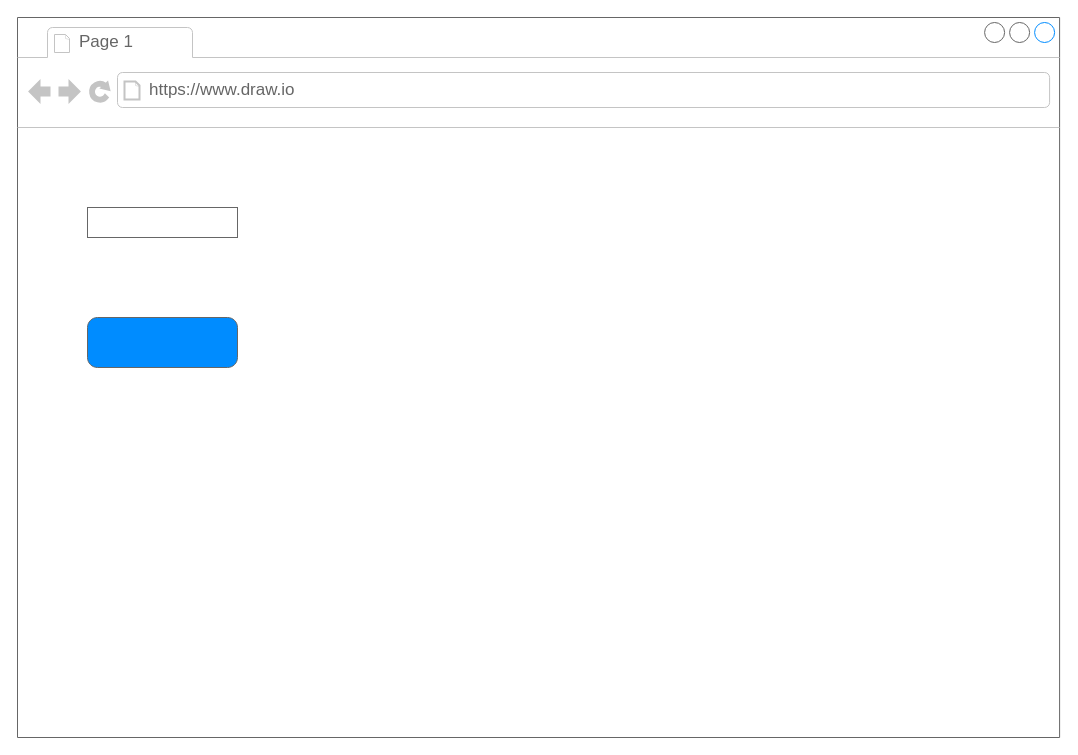
Some shapes in this 1078 by 755 pixel diagram are drawn without their labels. The shapes that lost their labels are listed below. From the top down, each one's box as (x1, y1, x2, y2) in pixels, then its label:
(86, 206, 238, 238): Line 1
(86, 316, 238, 368): Button Text
